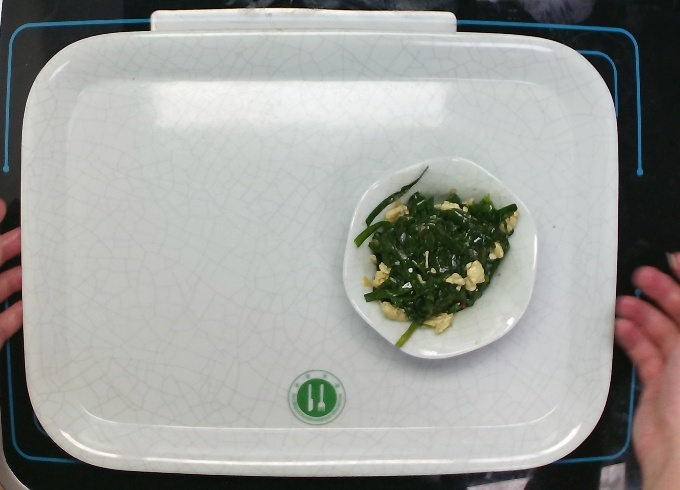WCQzf-Hua_Duo_Wan: (332, 150, 547, 365)
